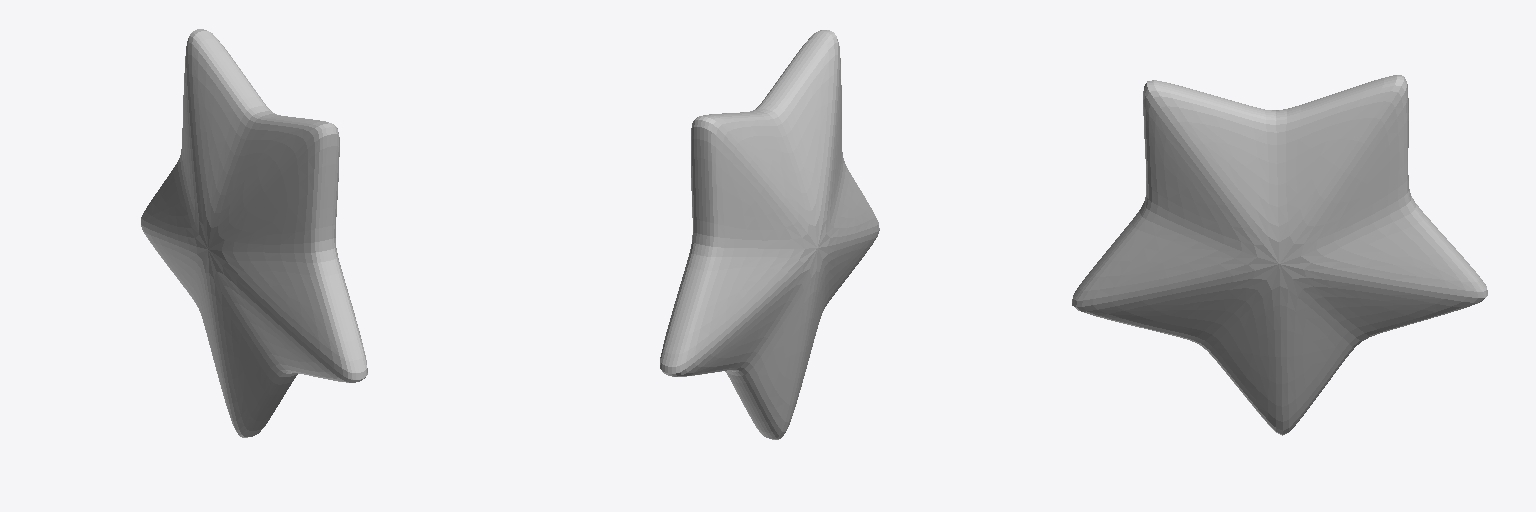
The model's file is star.obj.
3 renders of one model, left to right at view 1: azimuth 30°, elevation 25°; view 2: azimuth 150°, elevation 25°; view 3: azimuth 270°, elevation 25°, orthographic.
Parts seen in each view (by area): view 1: Star_Circle; view 2: Star_Circle; view 3: Star_Circle.
Boxes of the visible parts, <box> form: Star_Circle: <box>141,29,367,437</box>; Star_Circle: <box>660,30,879,439</box>; Star_Circle: <box>1072,75,1487,435</box>.
Bounding box in the file's own units: 0.755 × 2.68 × 2.79.